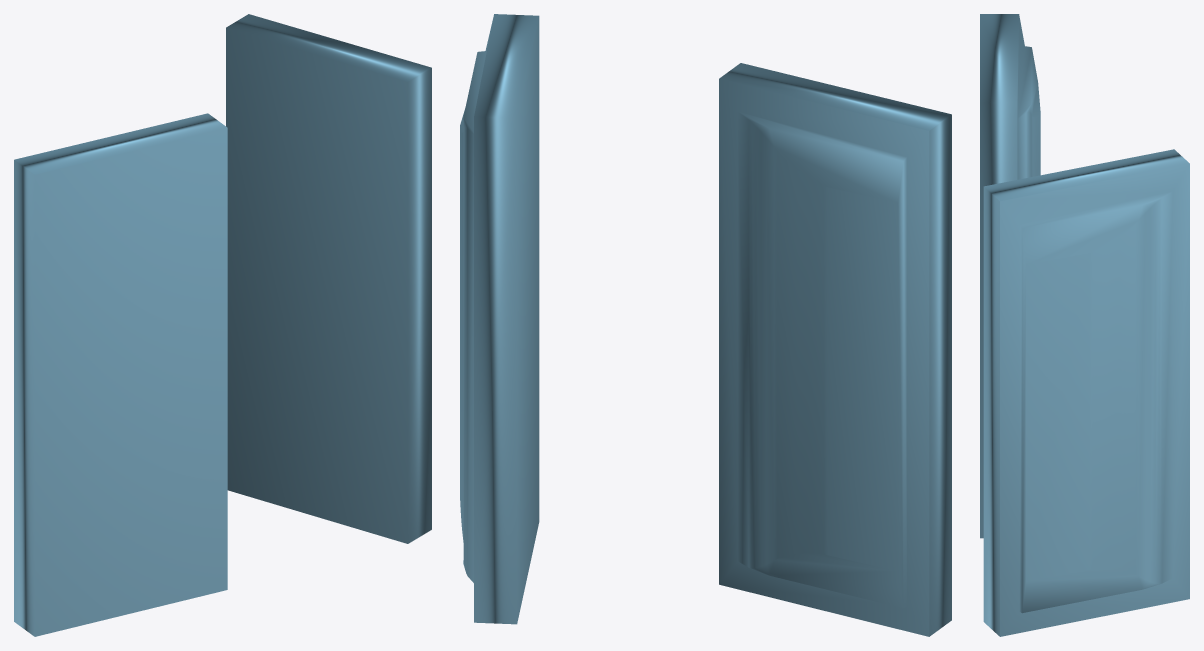
File: hood_door_open.glb
3 renders of one model, left to right at view 1: azimuth 30°, elevation 25°; view 2: azimuth 150°, elevation 25°; view 3: azimuth 270°, elevation 25°, orthographic. The views are drawn at different scales.
Visible parts, largest first — view 1: PUERTA BARRIO 1b, PUERTA BARRIO 2b; view 2: PUERTA BARRIO 1b, PUERTA BARRIO 2b; view 3: PUERTA BARRIO 2b, PUERTA BARRIO 1b.
Part boxes in pixels (left/top/right/bottom): PUERTA BARRIO 1b: left=14, top=113, right=227, bottom=636; PUERTA BARRIO 2b: left=226, top=14, right=431, bottom=543; PUERTA BARRIO 1b: left=719, top=63, right=951, bottom=636; PUERTA BARRIO 2b: left=460, top=14, right=539, bottom=624; PUERTA BARRIO 2b: left=983, top=149, right=1189, bottom=636; PUERTA BARRIO 1b: left=980, top=14, right=1040, bottom=538.
Size of what is drawn, in the model's own units: 9.78 by 10.39 by 4.54.
Materials: 1 (1 with a texture image).
